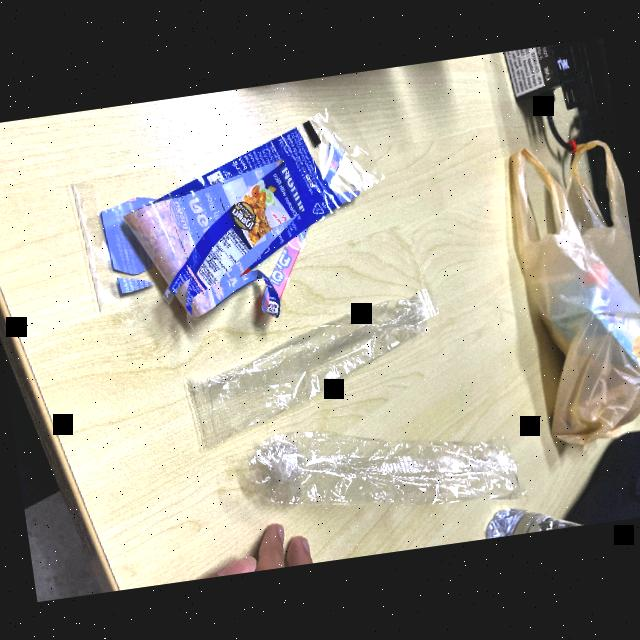scrap_plastic: (46, 99, 400, 332), (175, 281, 451, 446), (223, 393, 530, 534)
